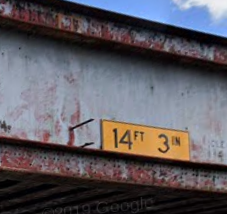1: (108, 124, 119, 151)
3: (154, 131, 171, 155)
4: (119, 125, 133, 154)
overheadsign: (98, 118, 190, 163)
